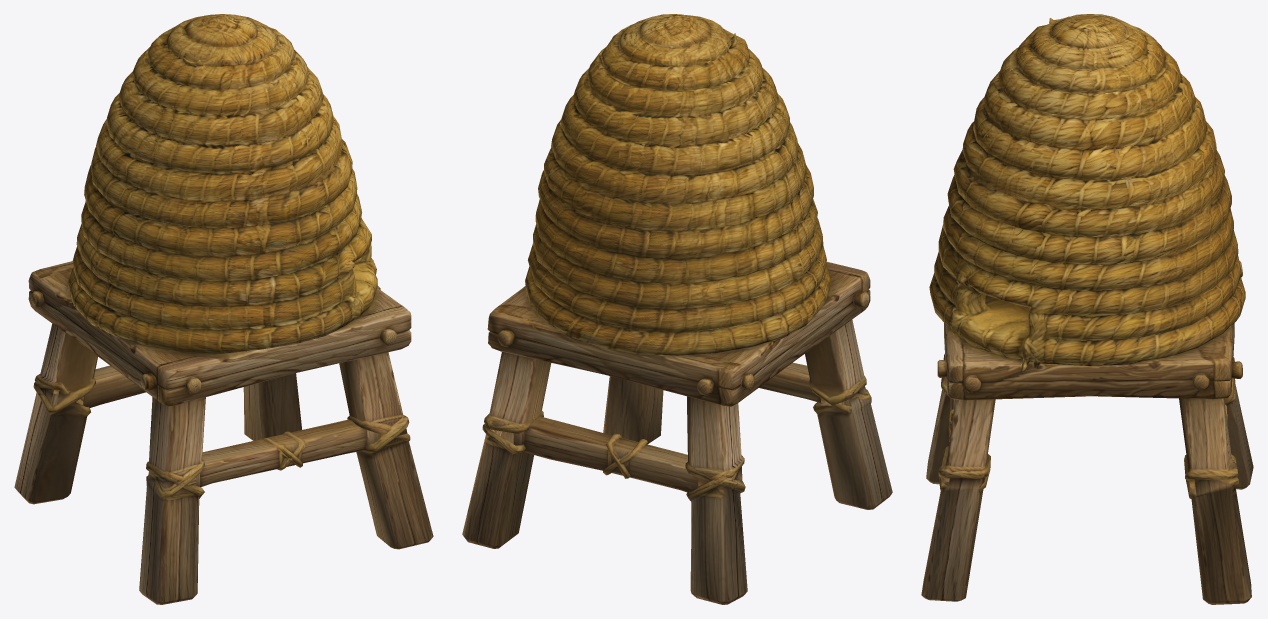
The model's file is SM_Env_SherwoodBeehiveSkep.fbx.
3 views of the same model, side by side, from view 1: azimuth 30°, elevation 25°; view 2: azimuth 150°, elevation 25°; view 3: azimuth 270°, elevation 25° (orthographic). The views are drawn at different scales.
Parts seen in each view (by area): view 1: SM_Env_SherwoodBeehiveSkep; view 2: SM_Env_SherwoodBeehiveSkep; view 3: SM_Env_SherwoodBeehiveSkep.
Boxes of the visible parts, bbox=[...] form: SM_Env_SherwoodBeehiveSkep: bbox=[14, 14, 433, 604]; SM_Env_SherwoodBeehiveSkep: bbox=[462, 14, 892, 604]; SM_Env_SherwoodBeehiveSkep: bbox=[921, 14, 1253, 604].
Size of the model in its own units: 19.43 by 19.23 by 33.
Materials: 1 (1 with a texture image).
